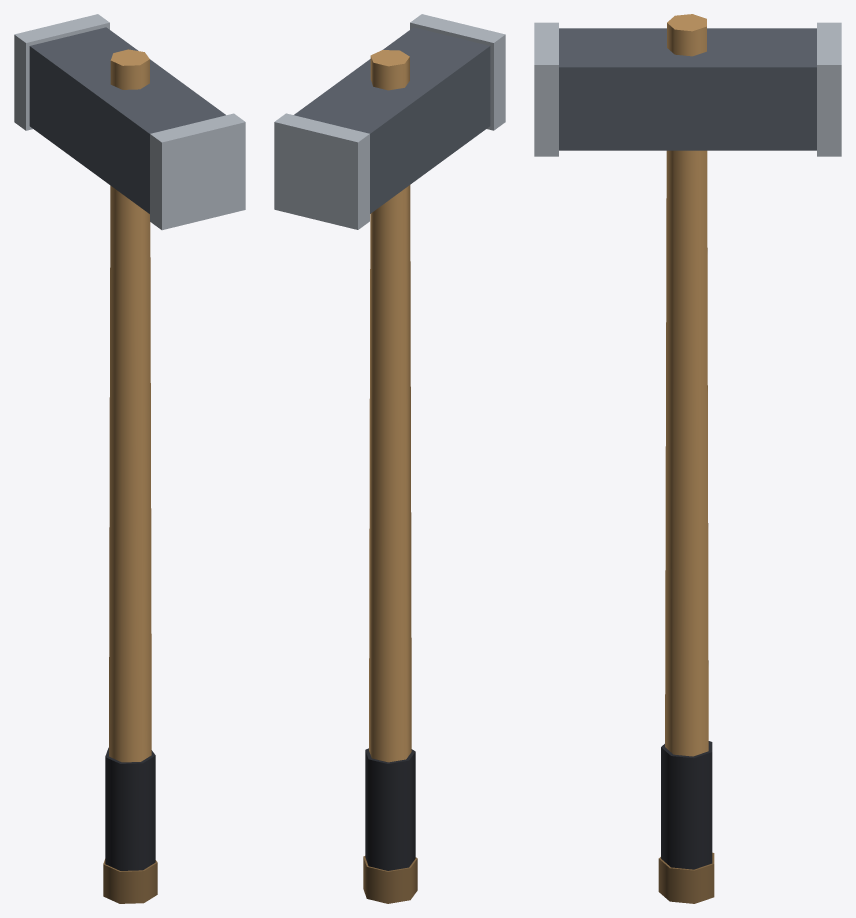
Rendered from tool_sledge.glb.
3 views of the same model, side by side, from view 1: azimuth 30°, elevation 25°; view 2: azimuth 150°, elevation 25°; view 3: azimuth 270°, elevation 25° (orthographic). The views are drawn at different scales.
Visible parts, largest first — view 1: _MeshInstance3D_1208, _MeshInstance3D_1211, _MeshInstance3D_1213, _MeshInstance3D_1210, _MeshInstance3D_1212, _MeshInstance3D_1209; view 2: _MeshInstance3D_1208, _MeshInstance3D_1211, _MeshInstance3D_1212, _MeshInstance3D_1210, _MeshInstance3D_1213, _MeshInstance3D_1209; view 3: _MeshInstance3D_1211, _MeshInstance3D_1208, _MeshInstance3D_1210, _MeshInstance3D_1212, _MeshInstance3D_1213, _MeshInstance3D_1209.
Boxes of the visible parts, x1=… form: _MeshInstance3D_1208: x1=109, y1=49, x2=151, y2=762; _MeshInstance3D_1211: x1=29, y1=27, x2=225, y2=213; _MeshInstance3D_1213: x1=150, y1=113, x2=245, y2=230; _MeshInstance3D_1210: x1=105, y1=747, x2=155, y2=870; _MeshInstance3D_1212: x1=14, y1=14, x2=109, y2=130; _MeshInstance3D_1209: x1=103, y1=859, x2=157, y2=903; _MeshInstance3D_1208: x1=369, y1=50, x2=411, y2=762; _MeshInstance3D_1211: x1=294, y1=27, x2=490, y2=213; _MeshInstance3D_1212: x1=274, y1=113, x2=369, y2=229; _MeshInstance3D_1210: x1=365, y1=748, x2=415, y2=870; _MeshInstance3D_1213: x1=410, y1=14, x2=505, y2=130; _MeshInstance3D_1209: x1=363, y1=856, x2=417, y2=903; _MeshInstance3D_1211: x1=559, y1=28, x2=816, y2=150; _MeshInstance3D_1208: x1=665, y1=14, x2=708, y2=756; _MeshInstance3D_1210: x1=661, y1=741, x2=712, y2=869; _MeshInstance3D_1212: x1=817, y1=22, x2=841, y2=156; _MeshInstance3D_1213: x1=534, y1=22, x2=558, y2=156; _MeshInstance3D_1209: x1=658, y1=852, x2=714, y2=903.
Size of the model in its own units: 0.082 by 0.78 by 0.25.
